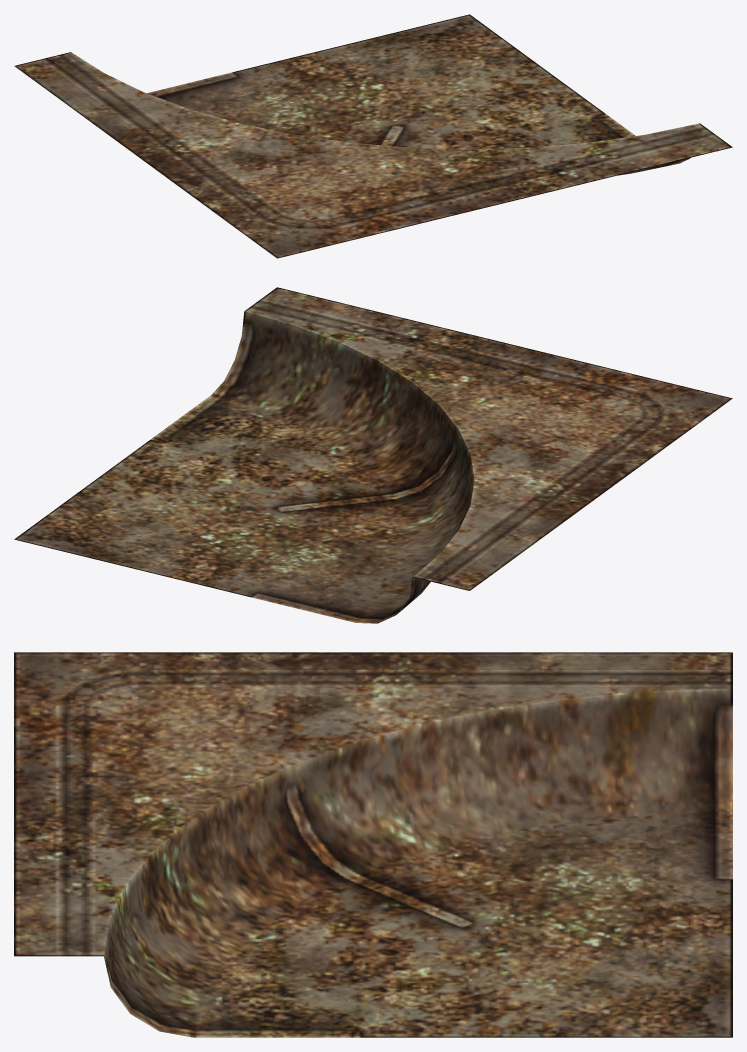
Rendered from pplant_ground_edge_concave_sunk_overgrown.dae.
The picture shows the model from 3 angles, top to bottom: view 1: azimuth 30°, elevation 25°; view 2: azimuth 150°, elevation 25°; view 3: azimuth 270°, elevation 25°; orthographic projection. The views are drawn at different scales.
Visible parts, largest first — view 1: Geometry_mesh010Node; view 2: Geometry_mesh010Node; view 3: Geometry_mesh010Node.
Boxes of the visible parts, left/top/right/bottom form: Geometry_mesh010Node: left=14, top=14, right=732, bottom=258; Geometry_mesh010Node: left=14, top=287, right=732, bottom=623; Geometry_mesh010Node: left=14, top=652, right=732, bottom=1037.
Size of the model in its own units: 2 by 0.25 by 2.
